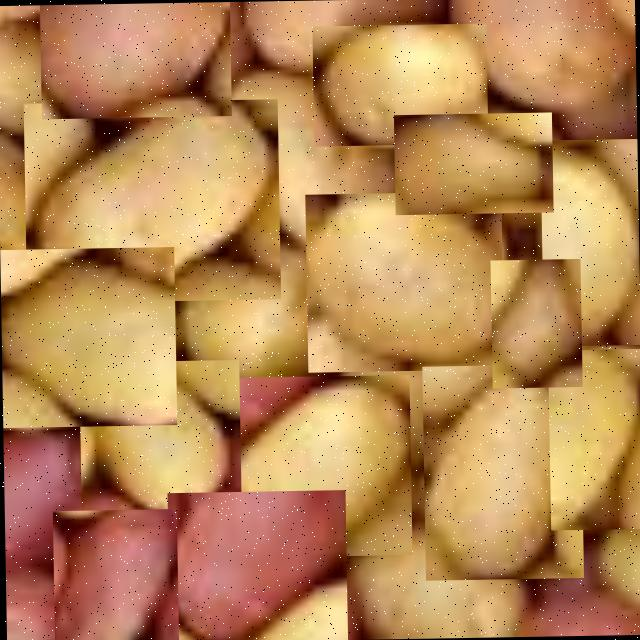Defected potato: (447, 0, 627, 129)
Diseased-fungal potato: (166, 489, 347, 640), (38, 2, 230, 118), (51, 508, 177, 640), (2, 414, 106, 563)
Potato: (22, 99, 280, 303), (304, 191, 503, 372), (220, 374, 411, 558), (420, 364, 582, 580), (0, 246, 176, 427), (211, 82, 383, 241), (78, 360, 240, 522), (311, 23, 487, 146), (538, 138, 640, 346), (339, 521, 518, 639), (182, 237, 318, 383), (546, 348, 640, 530), (392, 112, 552, 215), (489, 258, 581, 388)
